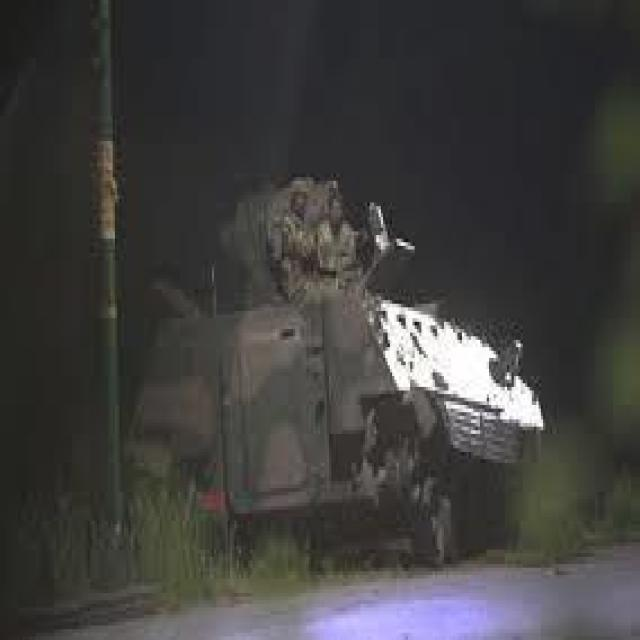MIL_MBT: (99, 137, 561, 589)
